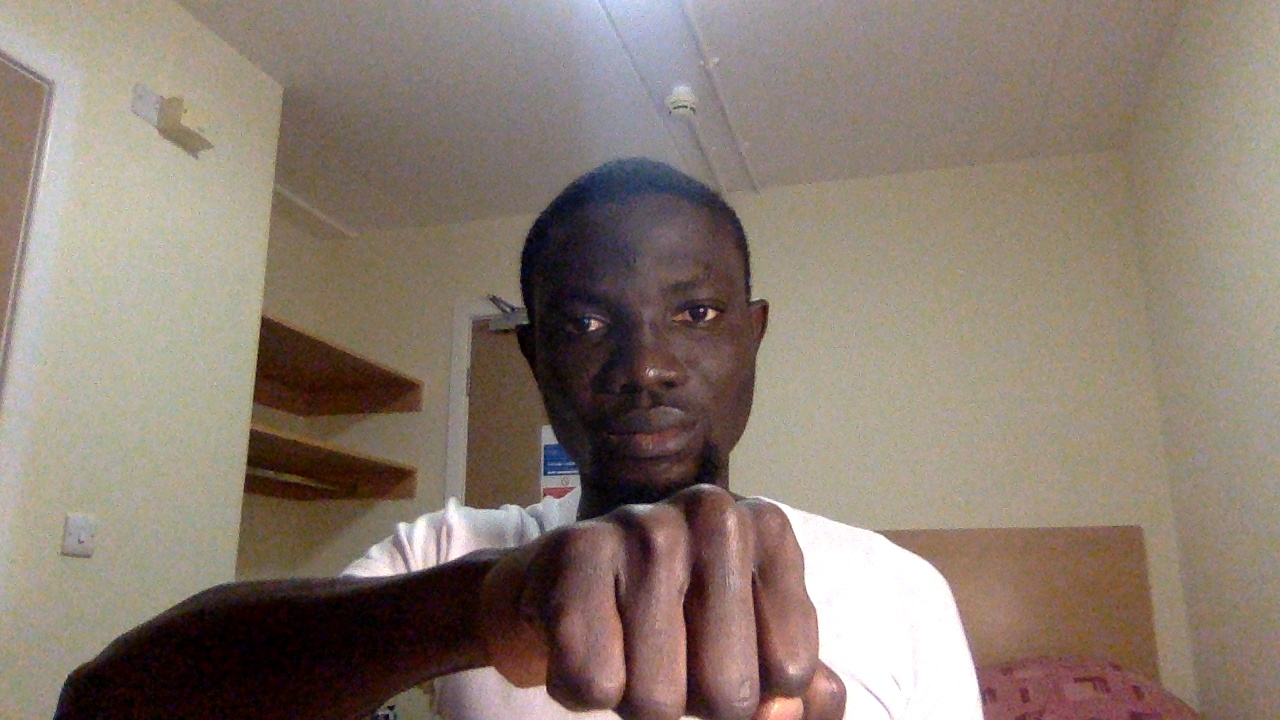Yes: (467, 476, 861, 720)
